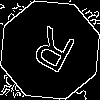R: (25, 25, 79, 83)
